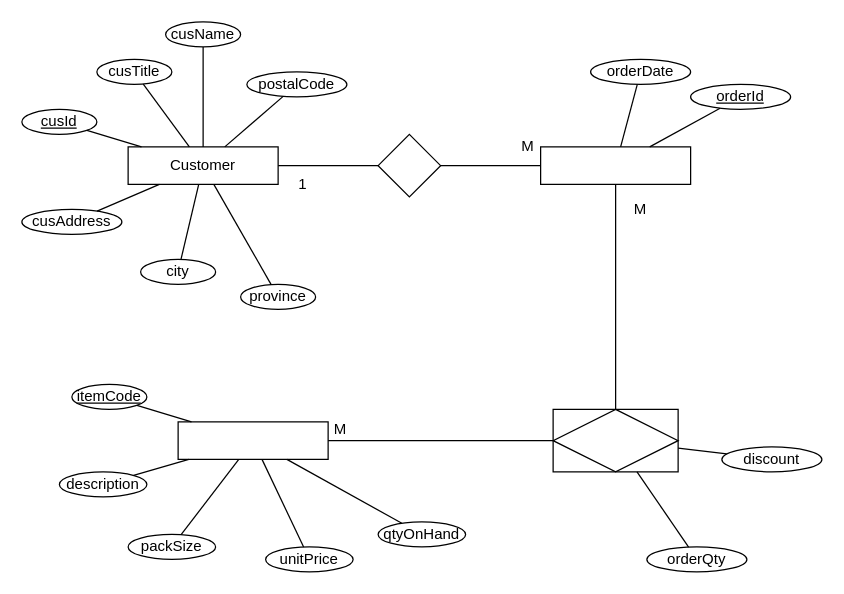
Image size: 844x594. Some labels were removed from this diagram. The shapes that lost their labels are listed below. From the top down, each one's centre as x and y in pixels, then its label:
[409,165]: place
[615,165]: Orders
[252,440]: Item
[615,440]: OrderDetails
